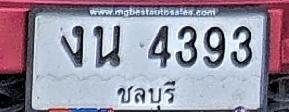3: (230, 25, 252, 67), (176, 25, 197, 67)
4: (148, 25, 170, 67)
9: (204, 26, 224, 67)
A07: (60, 25, 84, 67)
A25: (93, 24, 121, 67)
CBI: (110, 76, 178, 112)
